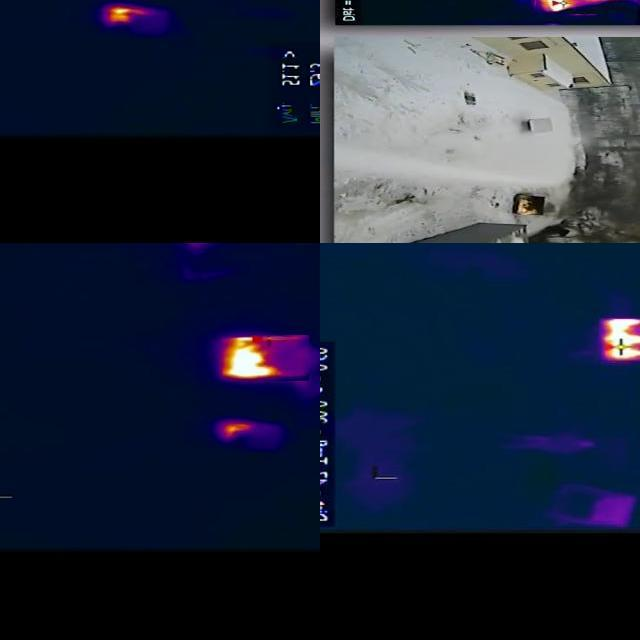fire: (220, 335, 310, 381), (600, 318, 640, 362), (537, 1, 639, 14), (108, 4, 154, 26), (222, 422, 255, 441)
